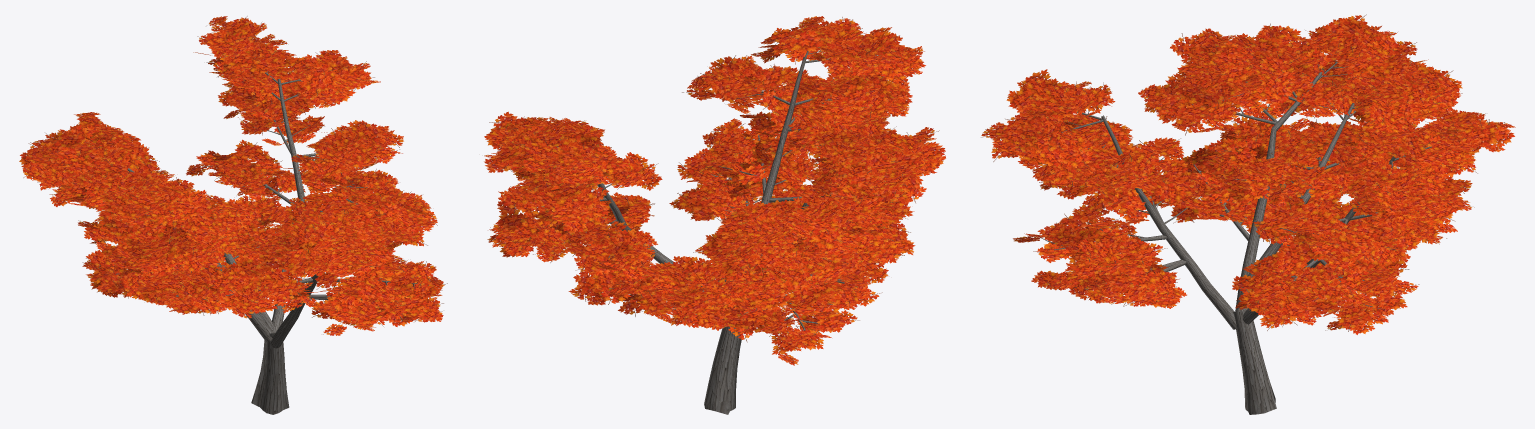
Rendered from tree-jmaple-orange.glb.
The picture shows the model from 3 angles, left to right: view 1: azimuth 30°, elevation 25°; view 2: azimuth 150°, elevation 25°; view 3: azimuth 270°, elevation 25°; orthographic projection. The views are drawn at different scales.
Parts seen in each view (by area): view 1: leaves, bark; view 2: leaves, bark; view 3: leaves, bark.
Part boxes in pixels (bbox=[...]): leaves: bbox=[19, 16, 447, 335]; bark: bbox=[100, 57, 428, 414]; leaves: bbox=[484, 16, 945, 365]; bark: bbox=[499, 47, 905, 414]; leaves: bbox=[981, 14, 1515, 334]; bark: bbox=[1039, 45, 1457, 414].
Bounding box in the file's own units: 6.36 × 4.68 × 7.1.
Materials: 2 (2 with a texture image).
